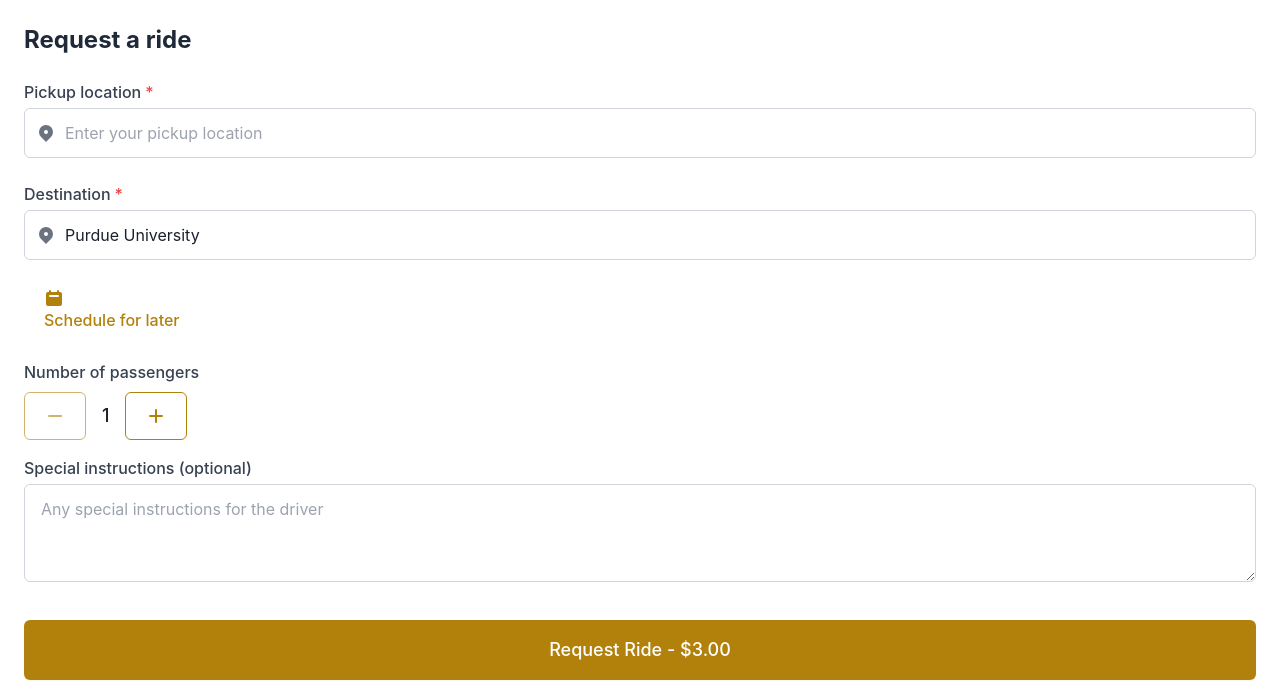
Test: RideRequestForm › handles API errors
Fill out the form
In the field labelled "Pickup location*": (640, 133) [24,108,1256,158], type "Chauncey Hill"
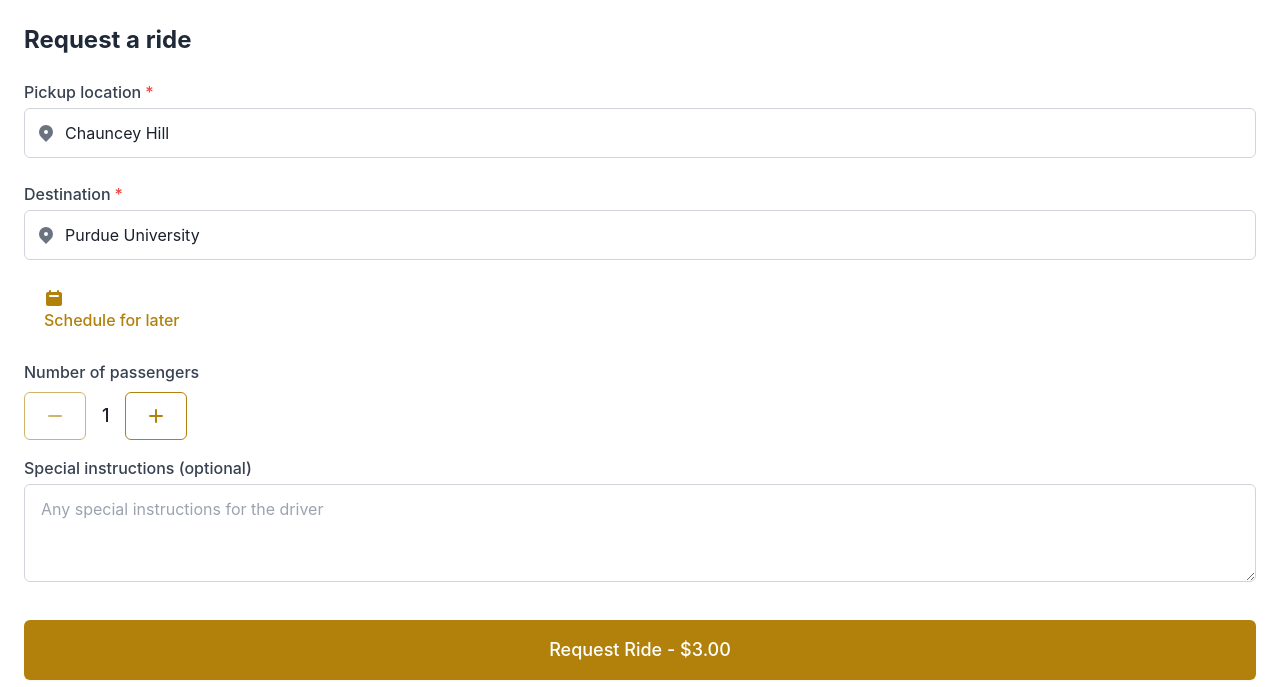
Submit the form
Click the button "Request Ride - $3.00": (640, 650) [24,620,1256,680]
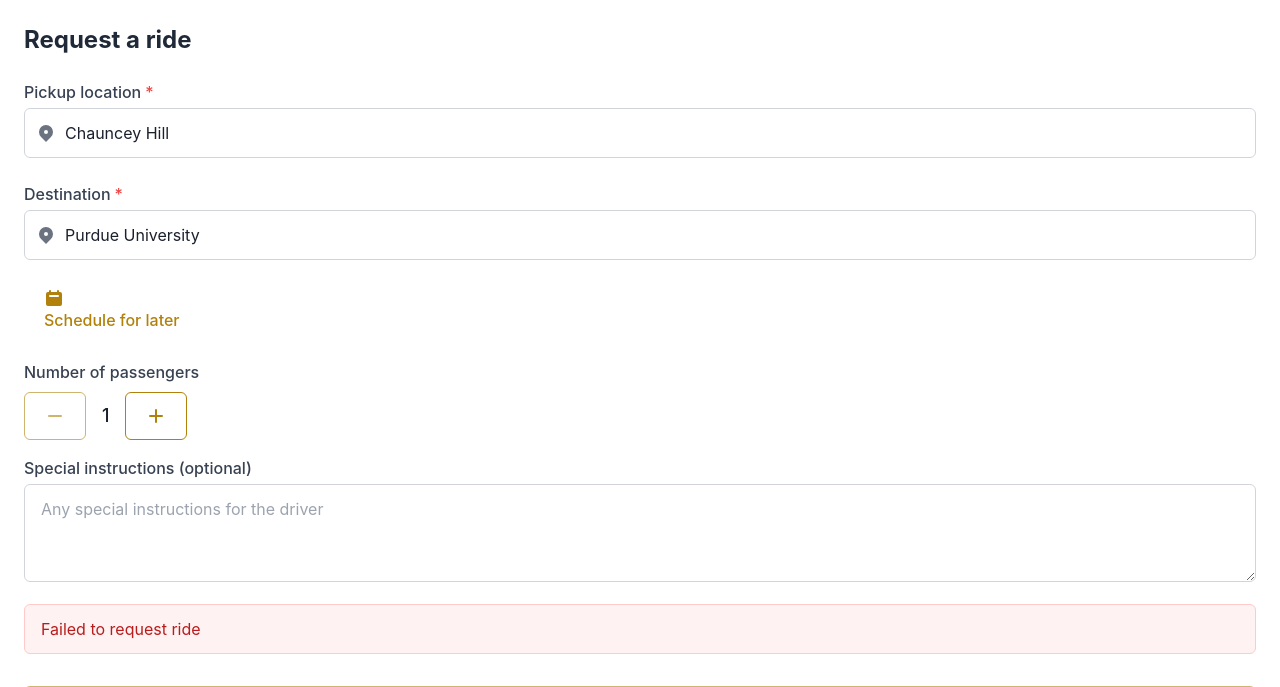
Expected: the text "Failed to request ride" is shown, [24,604,1256,654]
